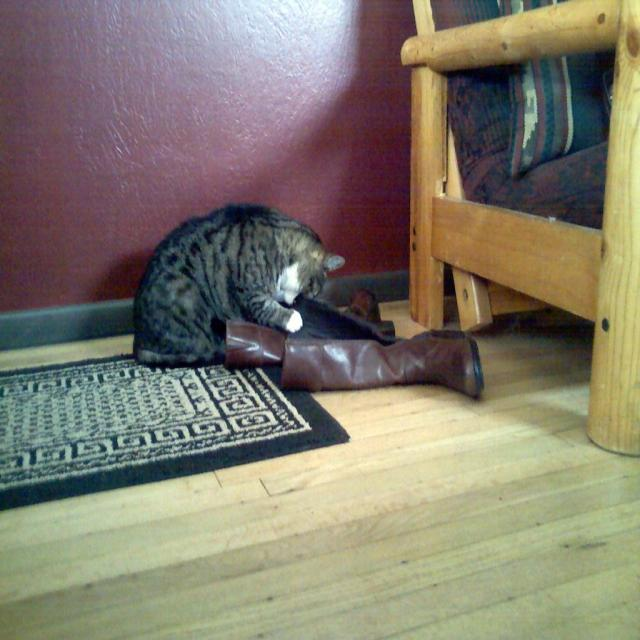Cat: (126, 204, 347, 366)
